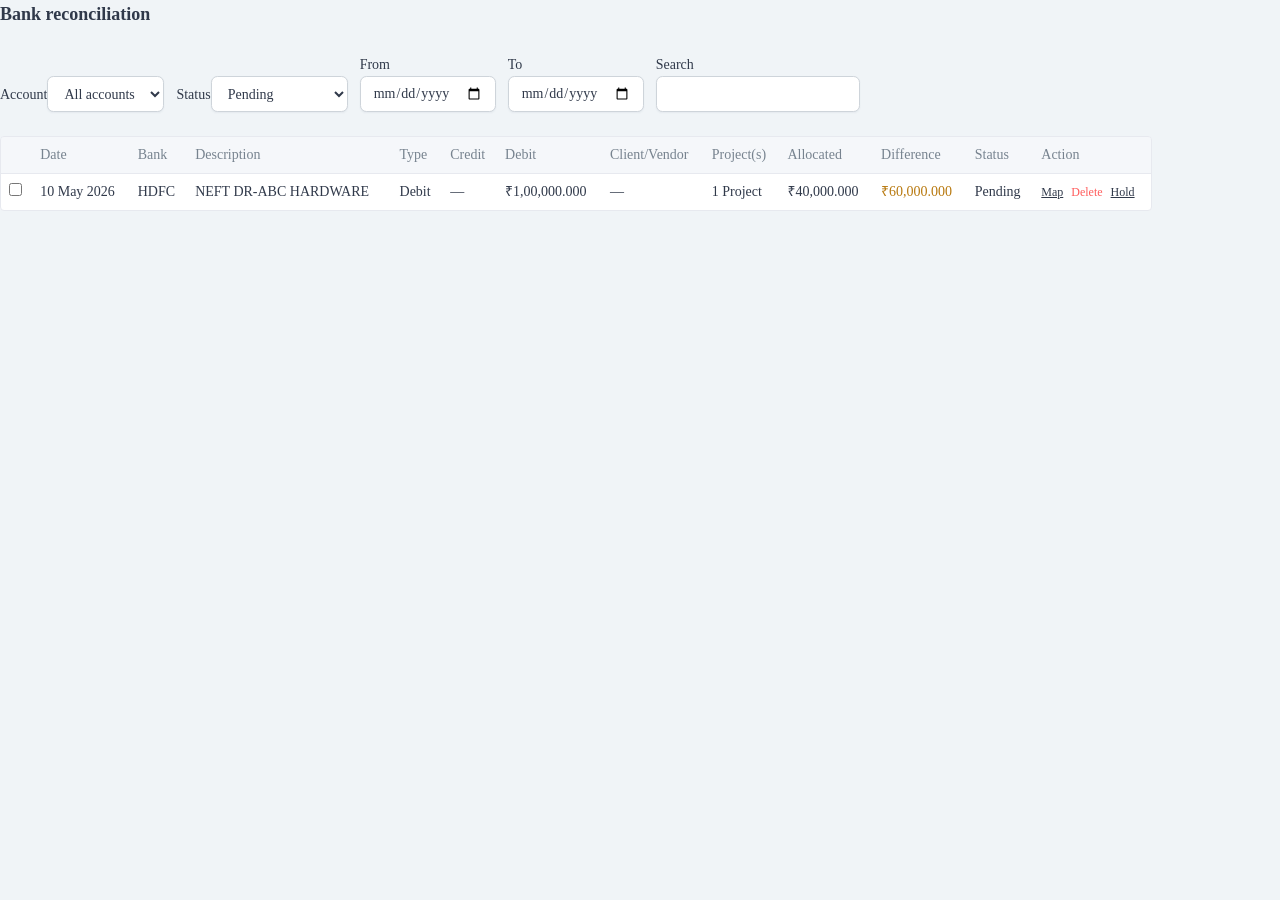
Test case: ReconciliationPage › MapDebit_BankChargesTarget_RequiresProjectButNoParty
Click the button "Map": [1052, 192] box x1=1041 y1=184 x2=1063 y2=200
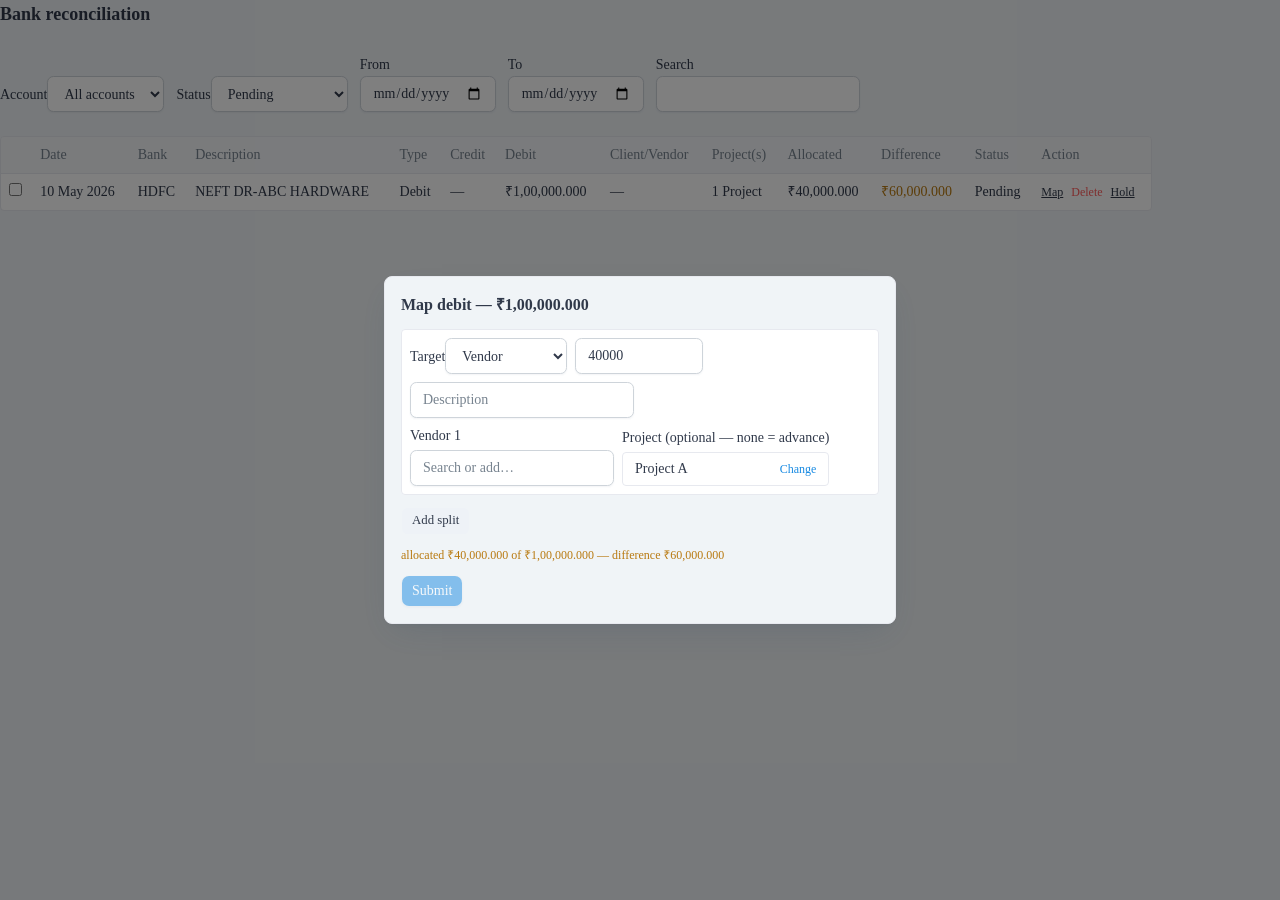
Select "Bank charges" in the dropdown named "Target 1": [506, 356] box x1=445 y1=338 x2=567 y2=374
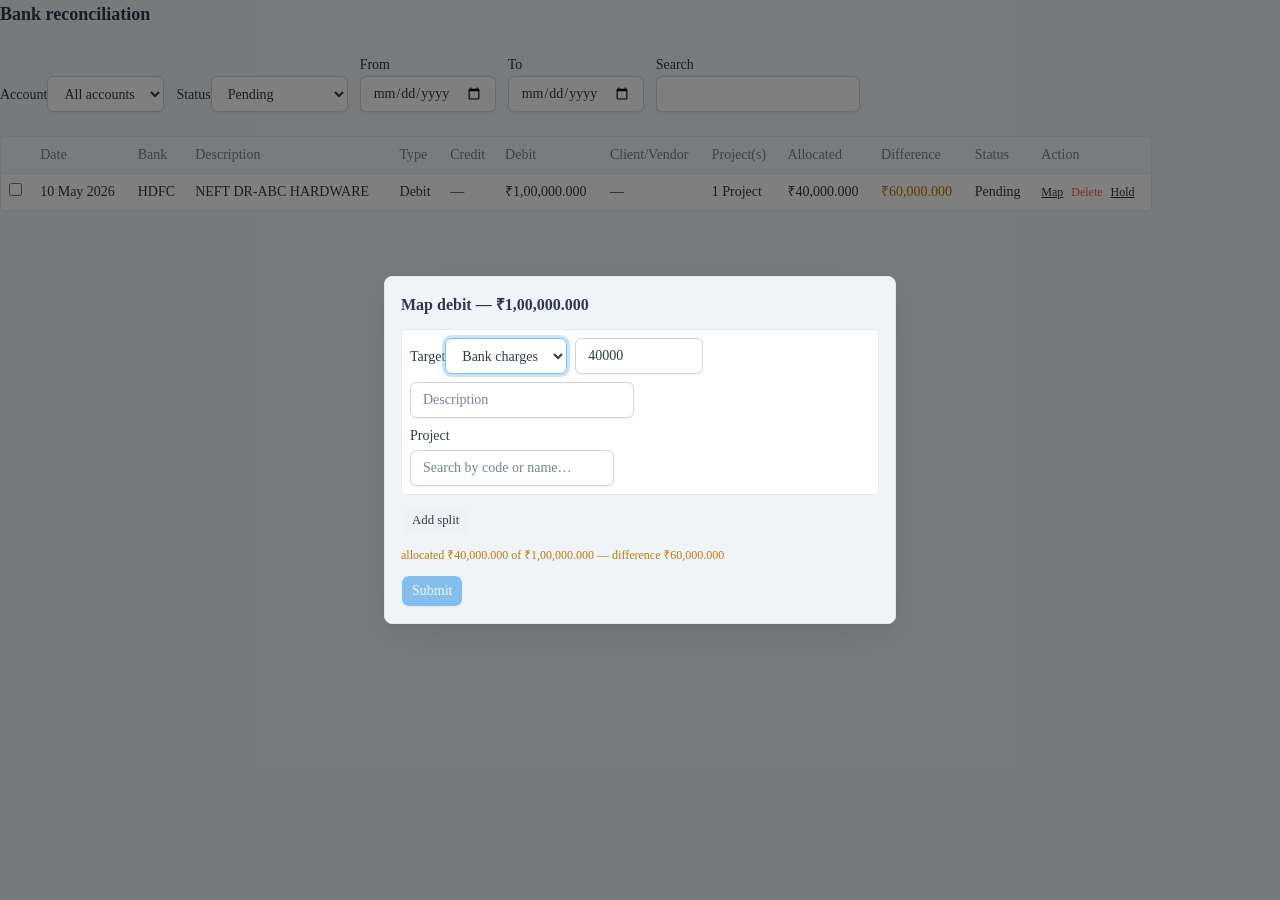
Now the text "Project" is shown, box x1=410 y1=428 x2=450 y2=443
Now the dropdown named "Project 1" is shown, box x1=410 y1=450 x2=614 y2=486
